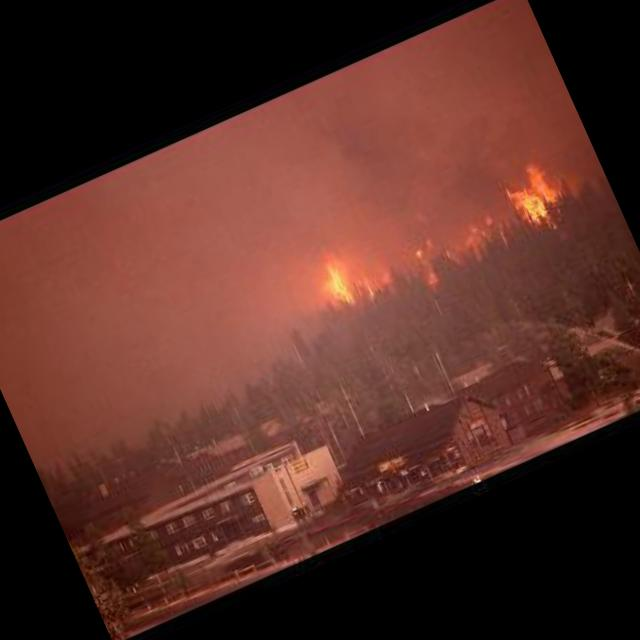fire: (304, 151, 576, 322)
